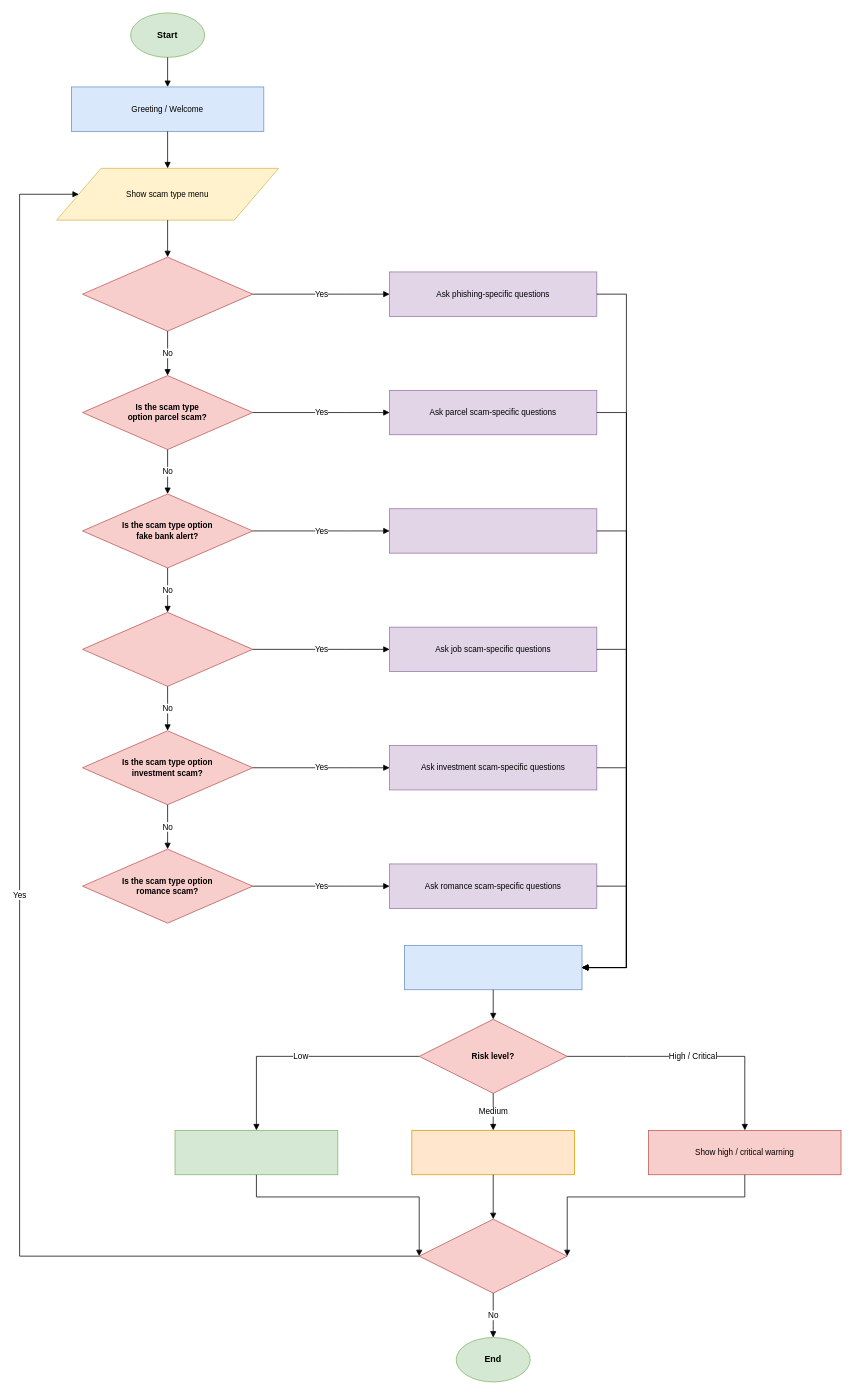
This 854x1395 diagram has some shape labels left out. Here are the shapes that lost their labels. From the top down, the centre of each, then its label:
At point (167, 293): "Is the scam type option phishing?".
At point (493, 530): "Ask fake bank alert-specific questions".
At point (167, 649): "Is the scam type option job scam?".
At point (493, 967): "Rule-based assessment".
At point (256, 1152): "Show low-risk advice".
At point (493, 1152): "Show medium-risk advice".
At point (492, 1255): "Check another scam?".
